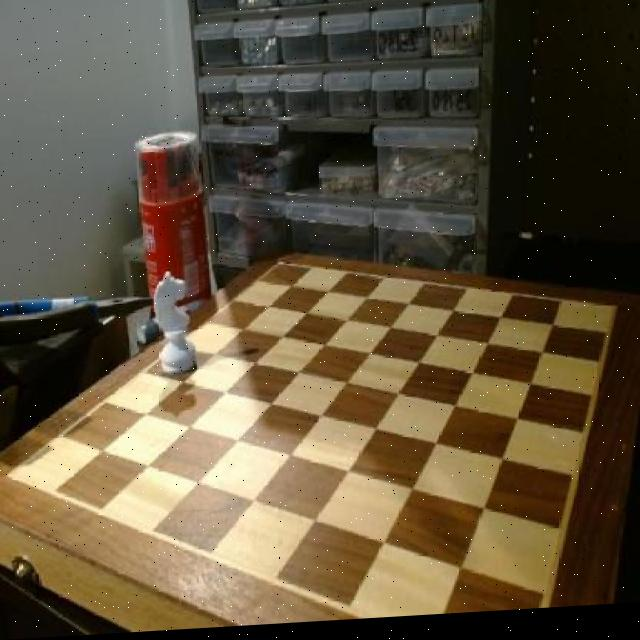white-king: (152, 272, 194, 390)
